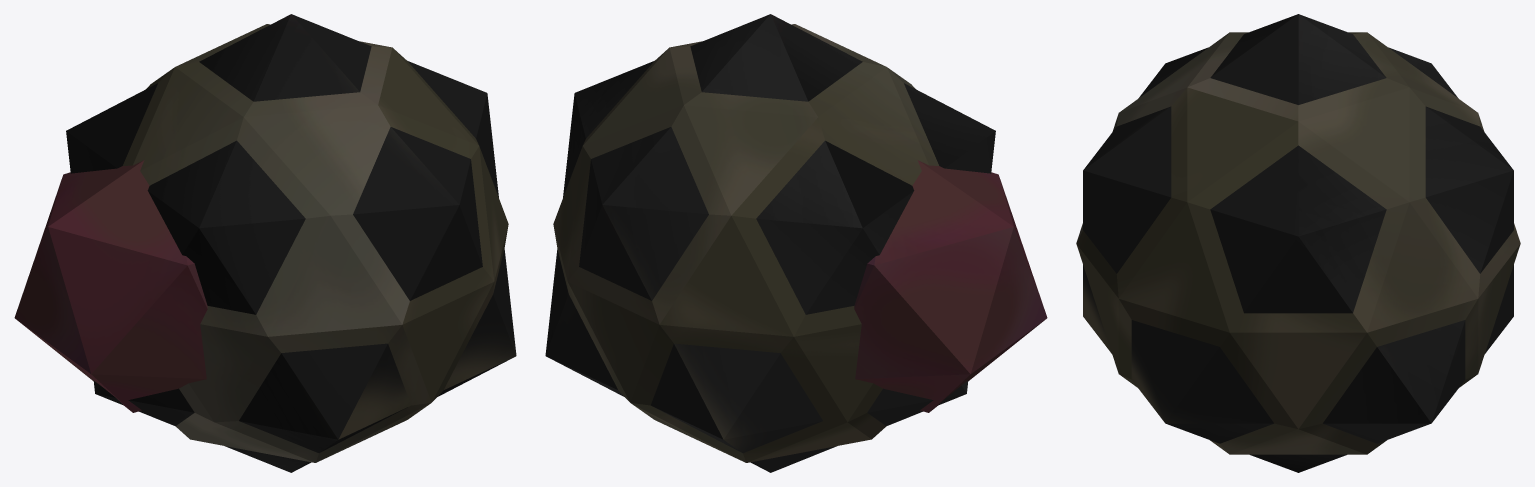
Rendered from Rocky.glb.
3 renders of one model, left to right at view 1: azimuth 30°, elevation 25°; view 2: azimuth 150°, elevation 25°; view 3: azimuth 270°, elevation 25°, orthographic.
Parts seen in each view (by area): view 1: Rocky; view 2: Rocky; view 3: Rocky.
Boxes of the visible parts, x1,y1,x2,y2 form: Rocky: (14,14,516,472); Rocky: (545,14,1047,472); Rocky: (1076,14,1520,472).
Bounding box in the file's own units: 0.9877 × 0.9861 × 0.8654.
Materials: 1 (1 with a texture image).
